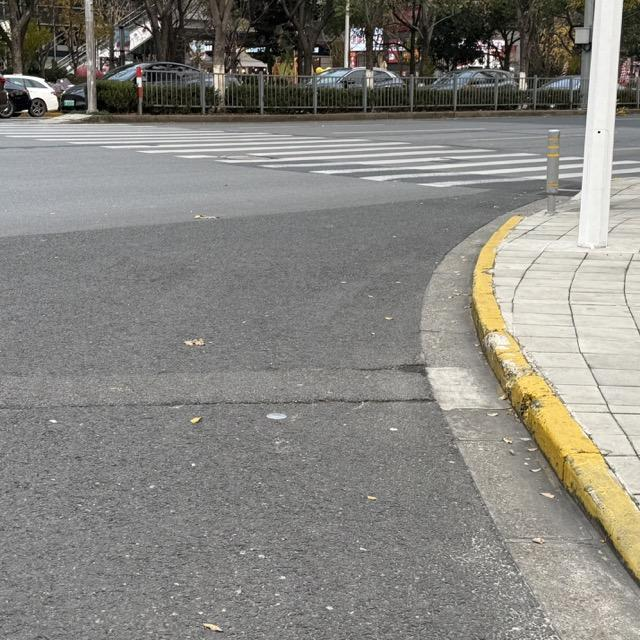curb: (471, 216, 639, 582), (62, 111, 583, 122)
